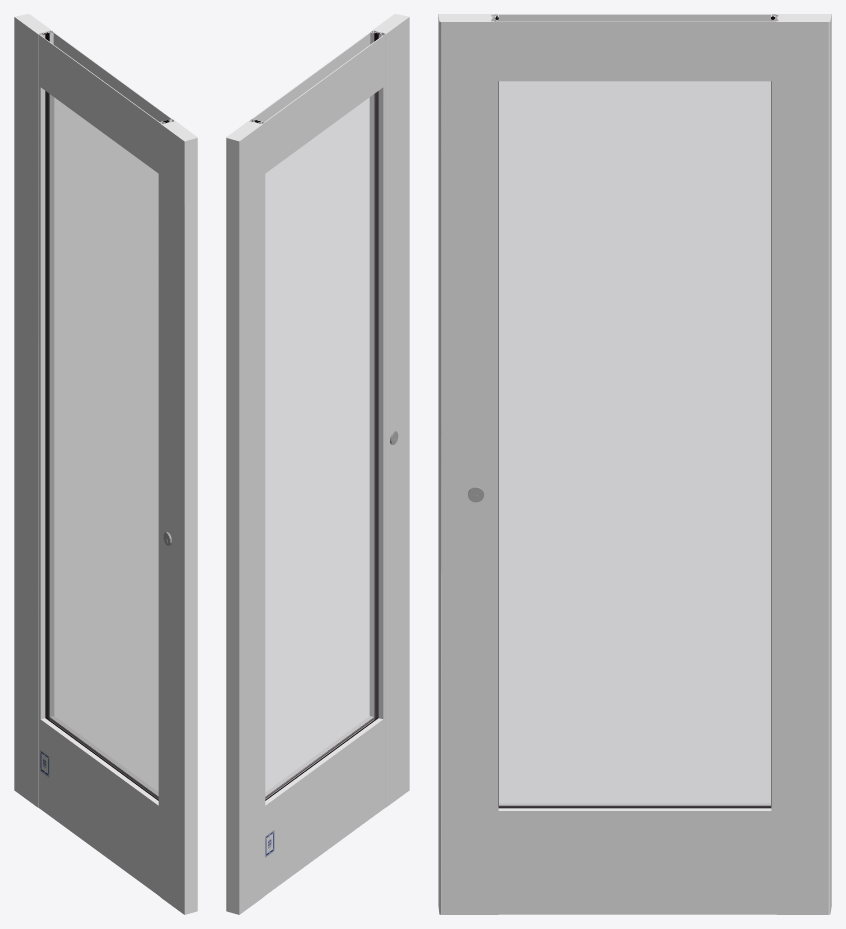
Rendered from D500_Slab_WT.glb.
3 renders of one model, left to right at view 1: azimuth 30°, elevation 25°; view 2: azimuth 150°, elevation 25°; view 3: azimuth 270°, elevation 25°, orthographic. The views are drawn at different scales.
Parts seen in each view (by area): view 1: Cube.011, PROFILE_curve_.067, D500, PROFILE_curve_.066, PROFILE_curve_.065, rubber_curve_.071, rubber_curve_.072; view 2: Cube.011, D500, PROFILE_curve_.067, PROFILE_curve_.066, PROFILE_curve_.065, rubber_curve_.069, rubber_curve_.070; view 3: Cube.011, D500, PROFILE_curve_.067, PROFILE_curve_.066, PROFILE_curve_.065, rubber_curve_.067.
Part boxes in pixels (box(x1,y1,x2,y2)): Cube.011: box(45, 91, 158, 799); PROFILE_curve_.067: box(158, 119, 197, 914); D500: box(14, 14, 54, 808); PROFILE_curve_.066: box(40, 716, 158, 895); PROFILE_curve_.065: box(40, 32, 171, 173); rubber_curve_.071: box(46, 32, 49, 719); rubber_curve_.072: box(43, 33, 46, 717); Cube.011: box(265, 91, 378, 799); D500: box(226, 119, 265, 914); PROFILE_curve_.067: box(369, 14, 409, 808); PROFILE_curve_.066: box(265, 716, 383, 895); PROFILE_curve_.065: box(252, 32, 383, 173); rubber_curve_.069: box(374, 32, 377, 719); rubber_curve_.070: box(377, 33, 380, 717); Cube.011: box(499, 81, 770, 807); D500: box(771, 14, 831, 914); PROFILE_curve_.067: box(438, 14, 498, 914); PROFILE_curve_.066: box(498, 803, 771, 914); PROFILE_curve_.065: box(498, 14, 771, 81); rubber_curve_.067: box(499, 805, 770, 807).
Size of the model in its own units: 0.054 by 2.29 by 0.9144.
5 materials, 1 textured.
